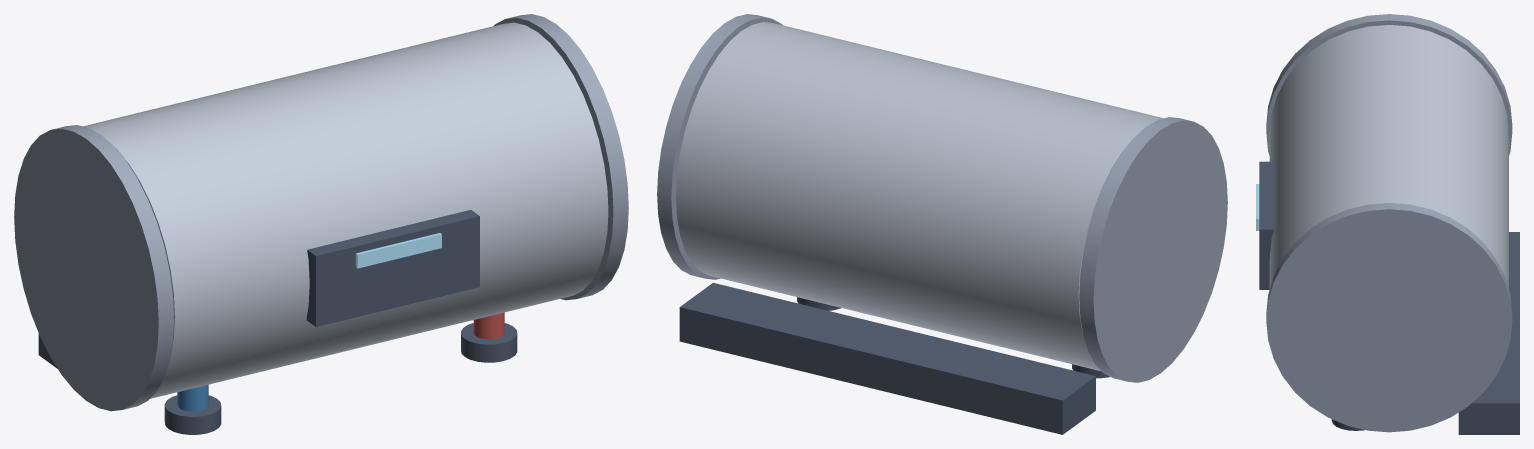
File: storagewaterheater.glb
3 views of the same model, side by side, from view 1: azimuth 30°, elevation 25°; view 2: azimuth 150°, elevation 25°; view 3: azimuth 270°, elevation 25° (orthographic). The views are drawn at different scales.
Visible parts, largest first — view 1: storagewaterheater; view 2: storagewaterheater; view 3: storagewaterheater.
Boxes of the visible parts, box(x1,y1,x2,y2) form: storagewaterheater: box(14, 14, 628, 434); storagewaterheater: box(657, 14, 1227, 434); storagewaterheater: box(1256, 14, 1519, 434).
Size of the model in its own units: 0.7646 by 0.4533 by 0.4368.
